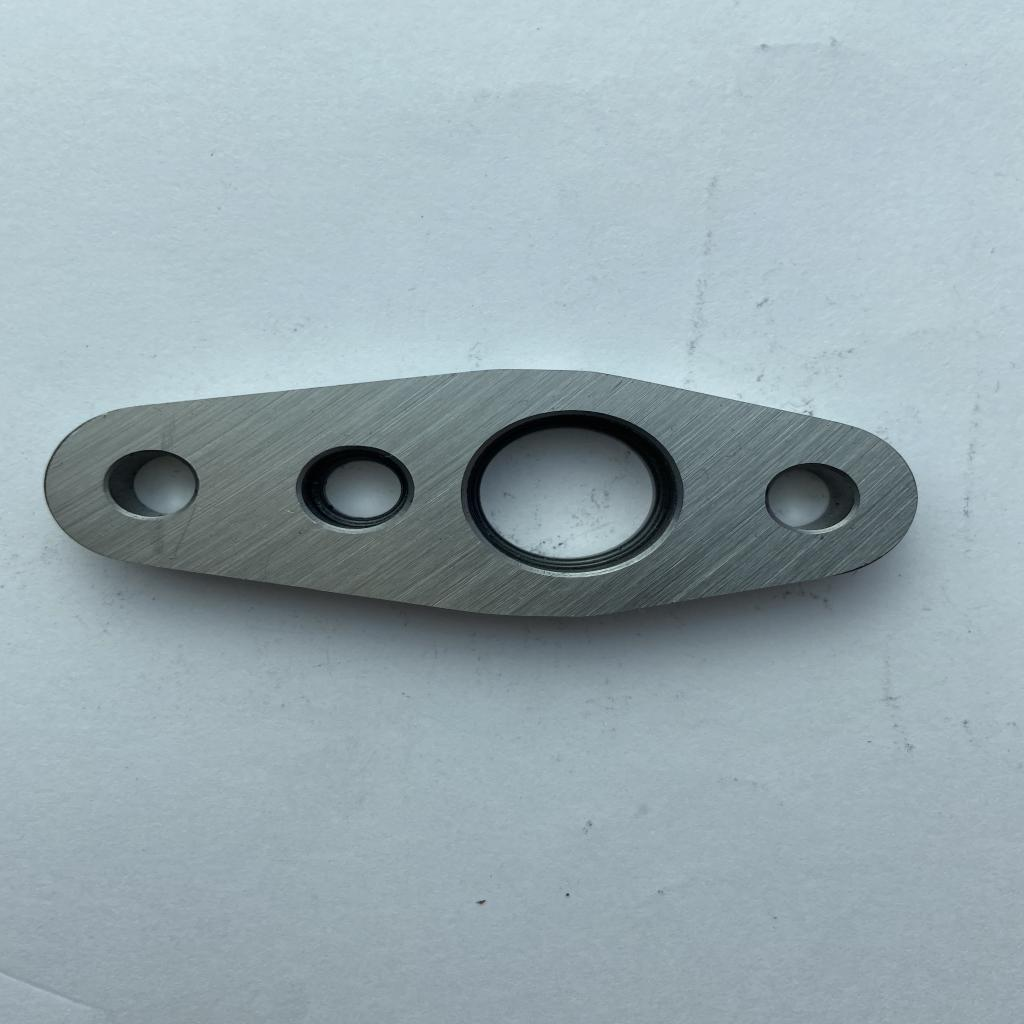chap: (282, 506, 296, 516), (190, 503, 204, 510)
